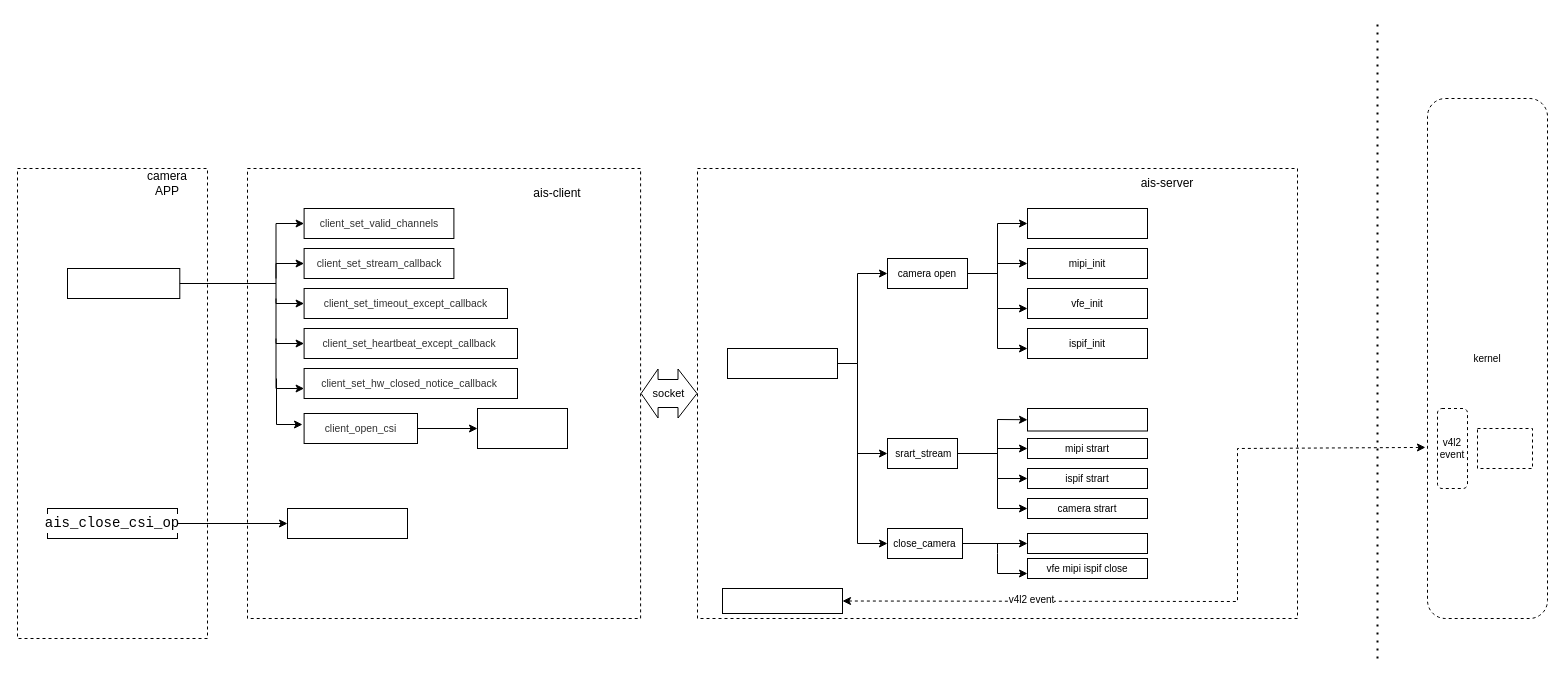
This 1565x677 diagram has some shape labels left out. The shapes that lost their labels are listed below. From the top down, each one's centre as x and y in pixels, then its label:
At (x=1087, y=223): "buffer_init".
At (x=123, y=283): "ais_open_csi_op".
At (x=782, y=363): "ais_main_thread".
At (x=522, y=428): "start_stream".
At (x=1087, y=419): "vfe strart".
At (x=1504, y=448): "vfe-driver".
At (x=347, y=523): "stop_stream".
At (x=1087, y=543): "camera close".
At (x=782, y=601): "vfe_event_poll_thread".
